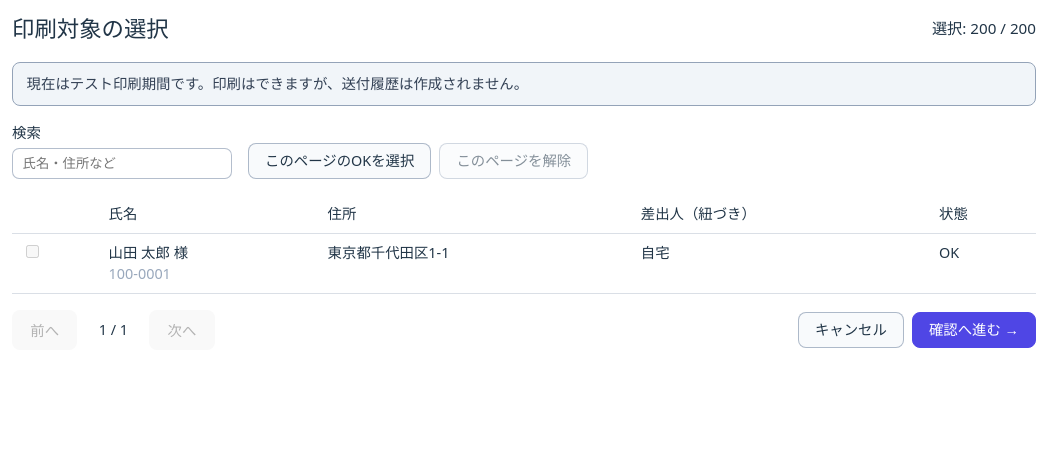
Test: PrintSelectPage bulk selection › shows max selection banner when page OK select would exceed the limit
The width and height of the screenshot is (1048, 457).
Click the button "このページのOKを選択" at (340, 161), box [248,143,431,179]
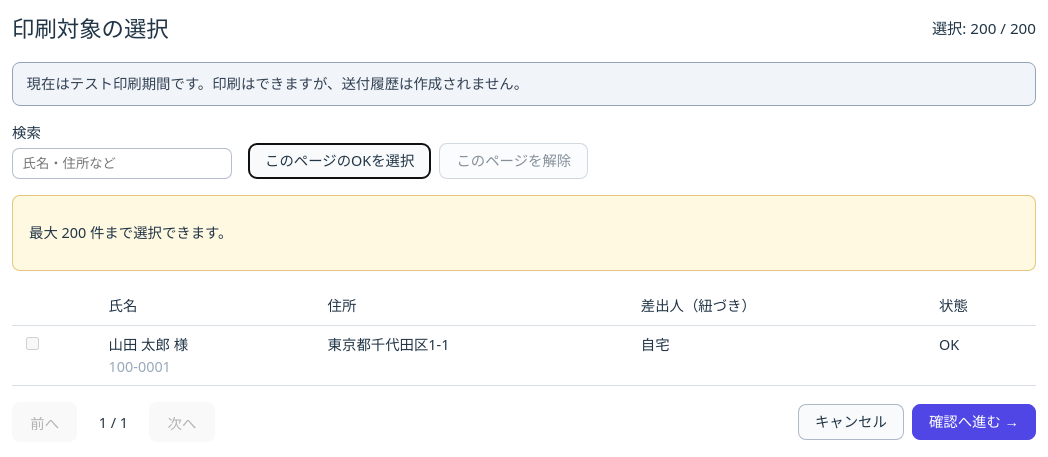
Expected: the text "選択: 200 / 200" is shown, [932,17,1036,40]
Expected: the text "最大 200 件まで選択できます。" is shown, [29,223,232,242]
